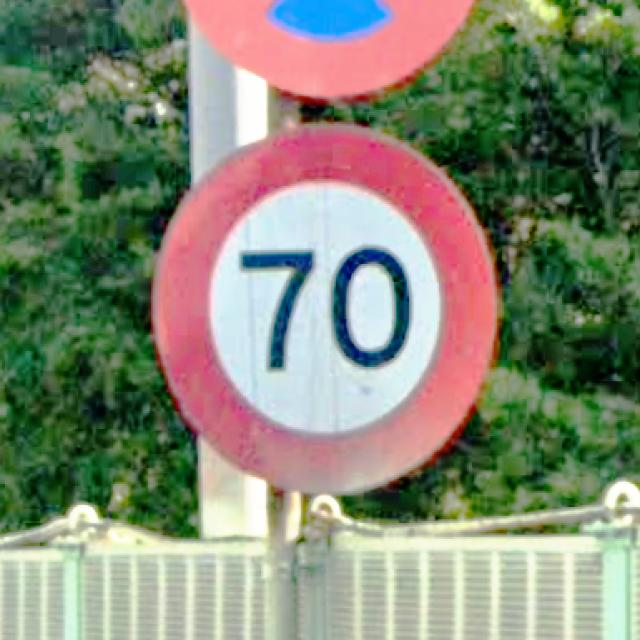max70: (150, 118, 500, 494)
